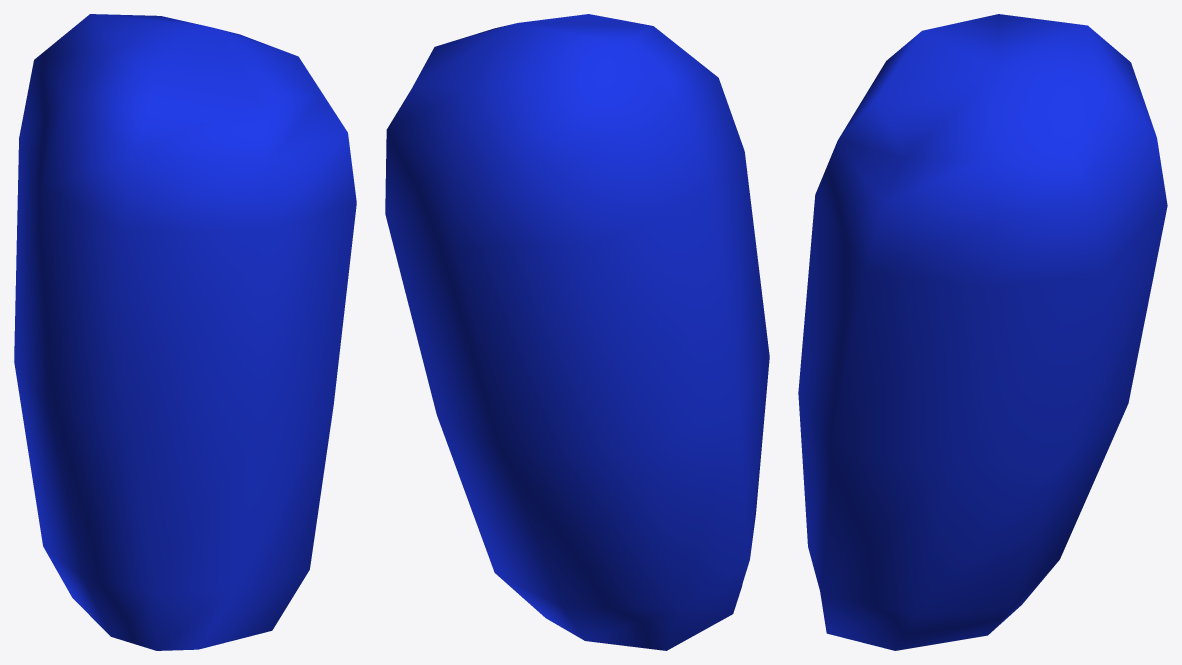
File: Overcoat rightlower.fbx
The picture shows the model from 3 angles, left to right: view 1: azimuth 30°, elevation 25°; view 2: azimuth 150°, elevation 25°; view 3: azimuth 270°, elevation 25°; orthographic projection. The views are drawn at different scales.
Parts seen in each view (by area): view 1: LeftLowerLongSleeve; view 2: LeftLowerLongSleeve; view 3: LeftLowerLongSleeve.
Part boxes in pixels (x1,y1,x2,y2): LeftLowerLongSleeve: (14,14,356,650); LeftLowerLongSleeve: (385,14,769,650); LeftLowerLongSleeve: (798,14,1167,650).
Size of the model in its own units: 23.03 by 41.77 by 24.05.
